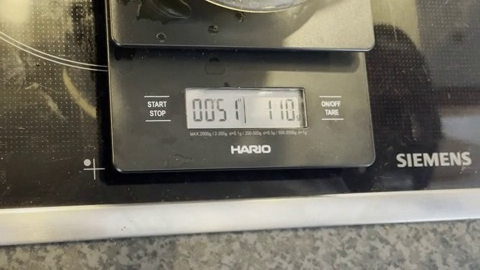display: (186, 88, 305, 127)
